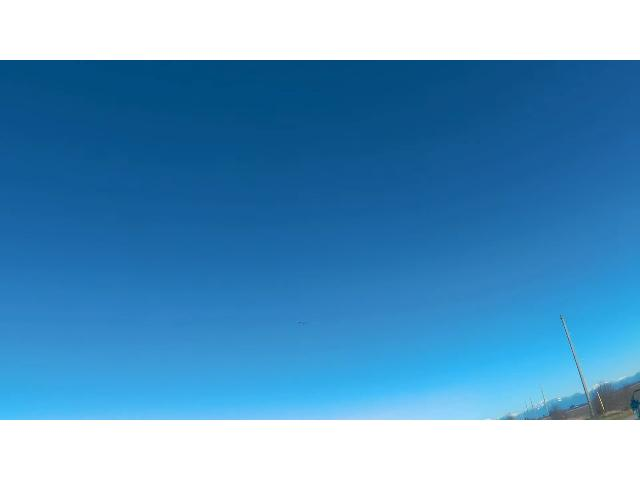Anti-Drone: (292, 316, 308, 332)
